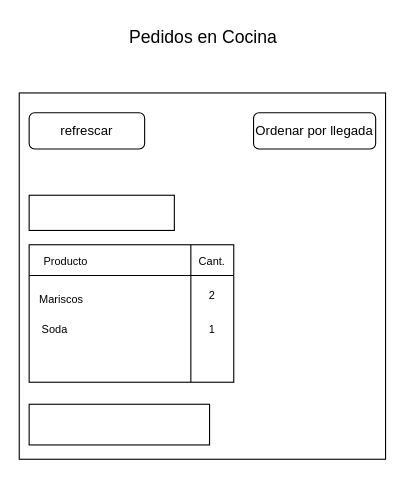
This 405x479 diagram has some shape labels left out. The shapes that lost their labels are listed below. From the top down, each one's centre as x and y in pixels, then its label:
At point (101, 212): "Pedido #152 (Mesa 3)".
At point (119, 424): "Estado: En preparación".
